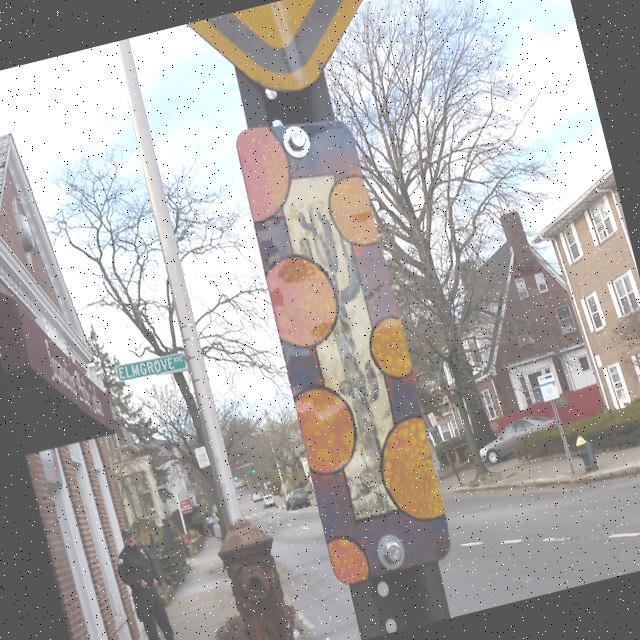fire_hydrant: (209, 512, 301, 640), (572, 431, 598, 473)
